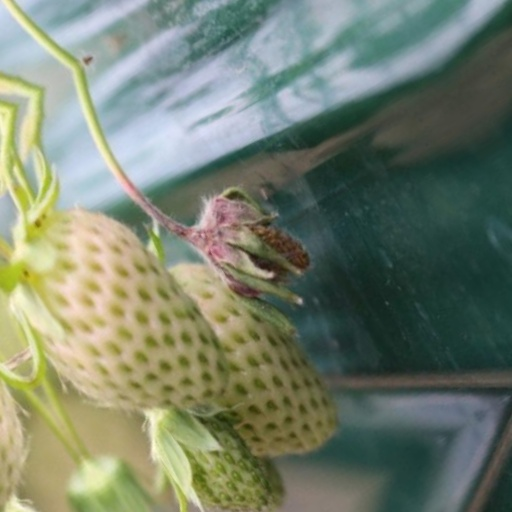Gray Mold: (189, 159, 303, 350)
